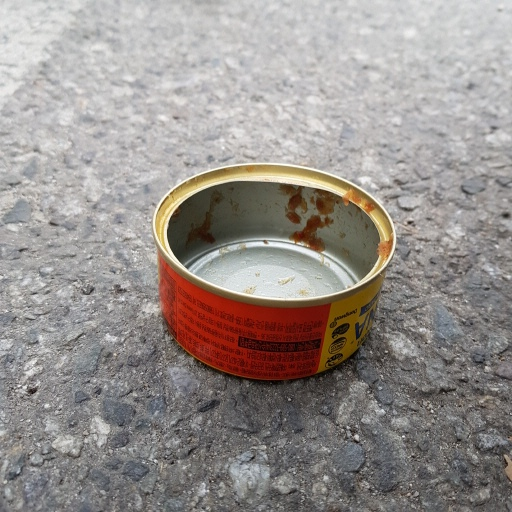Metal_1: (151, 161, 398, 383)
